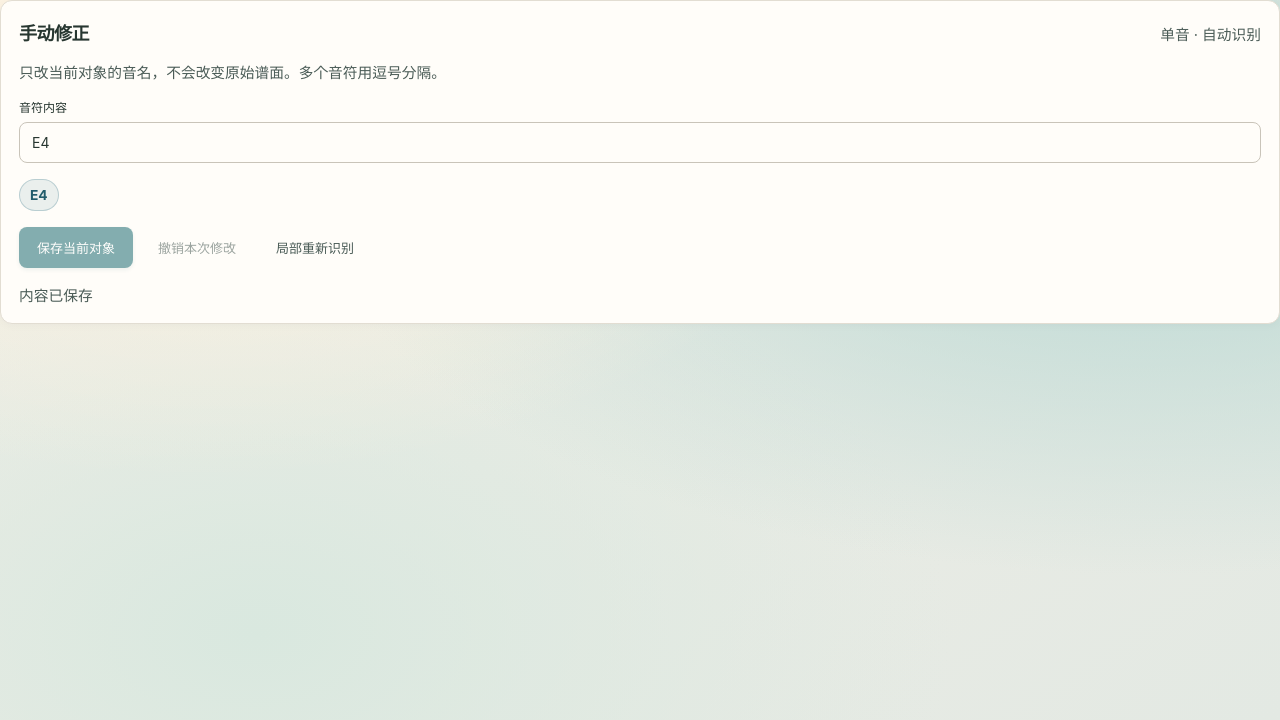
Test case: ObjectEditor › protects unsaved corrections from a local rerun
Replace the text in the field labelled "音符内容" with "F4". click: (640, 142)
box: [19,122,1261,163]
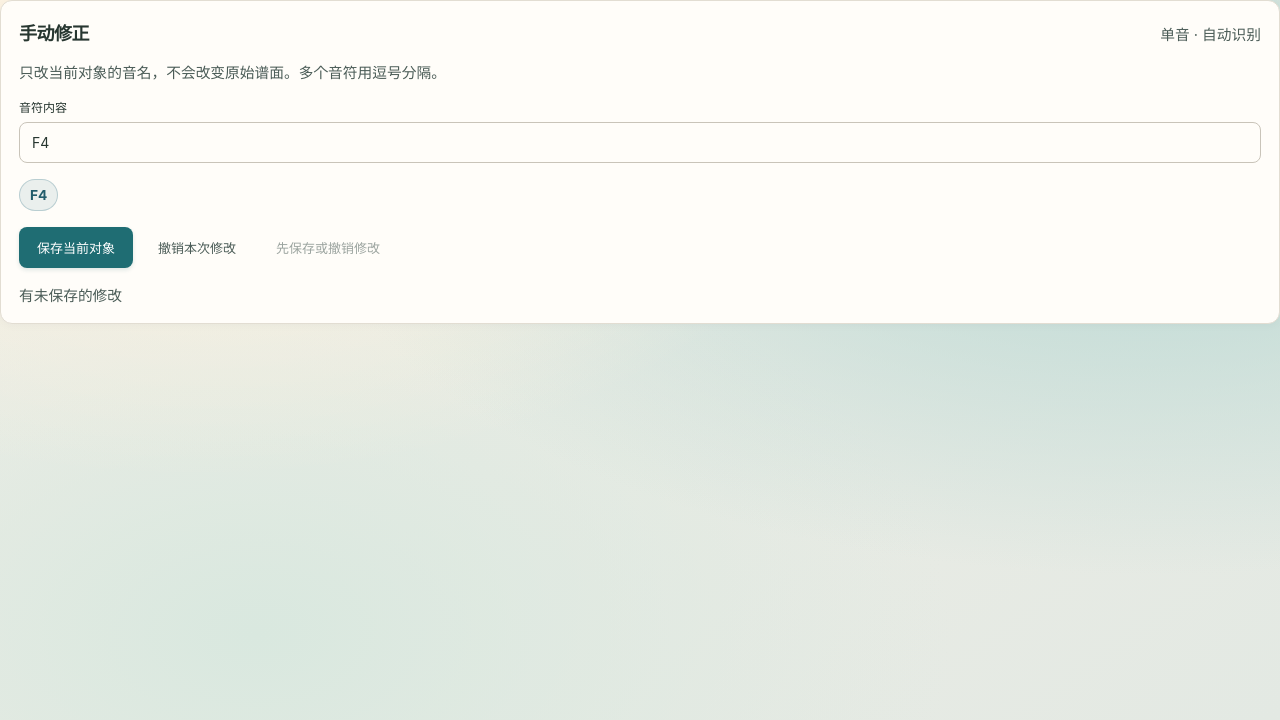
Expected: the button "先保存或撤销修改" is disabled, [261,228,395,268]
